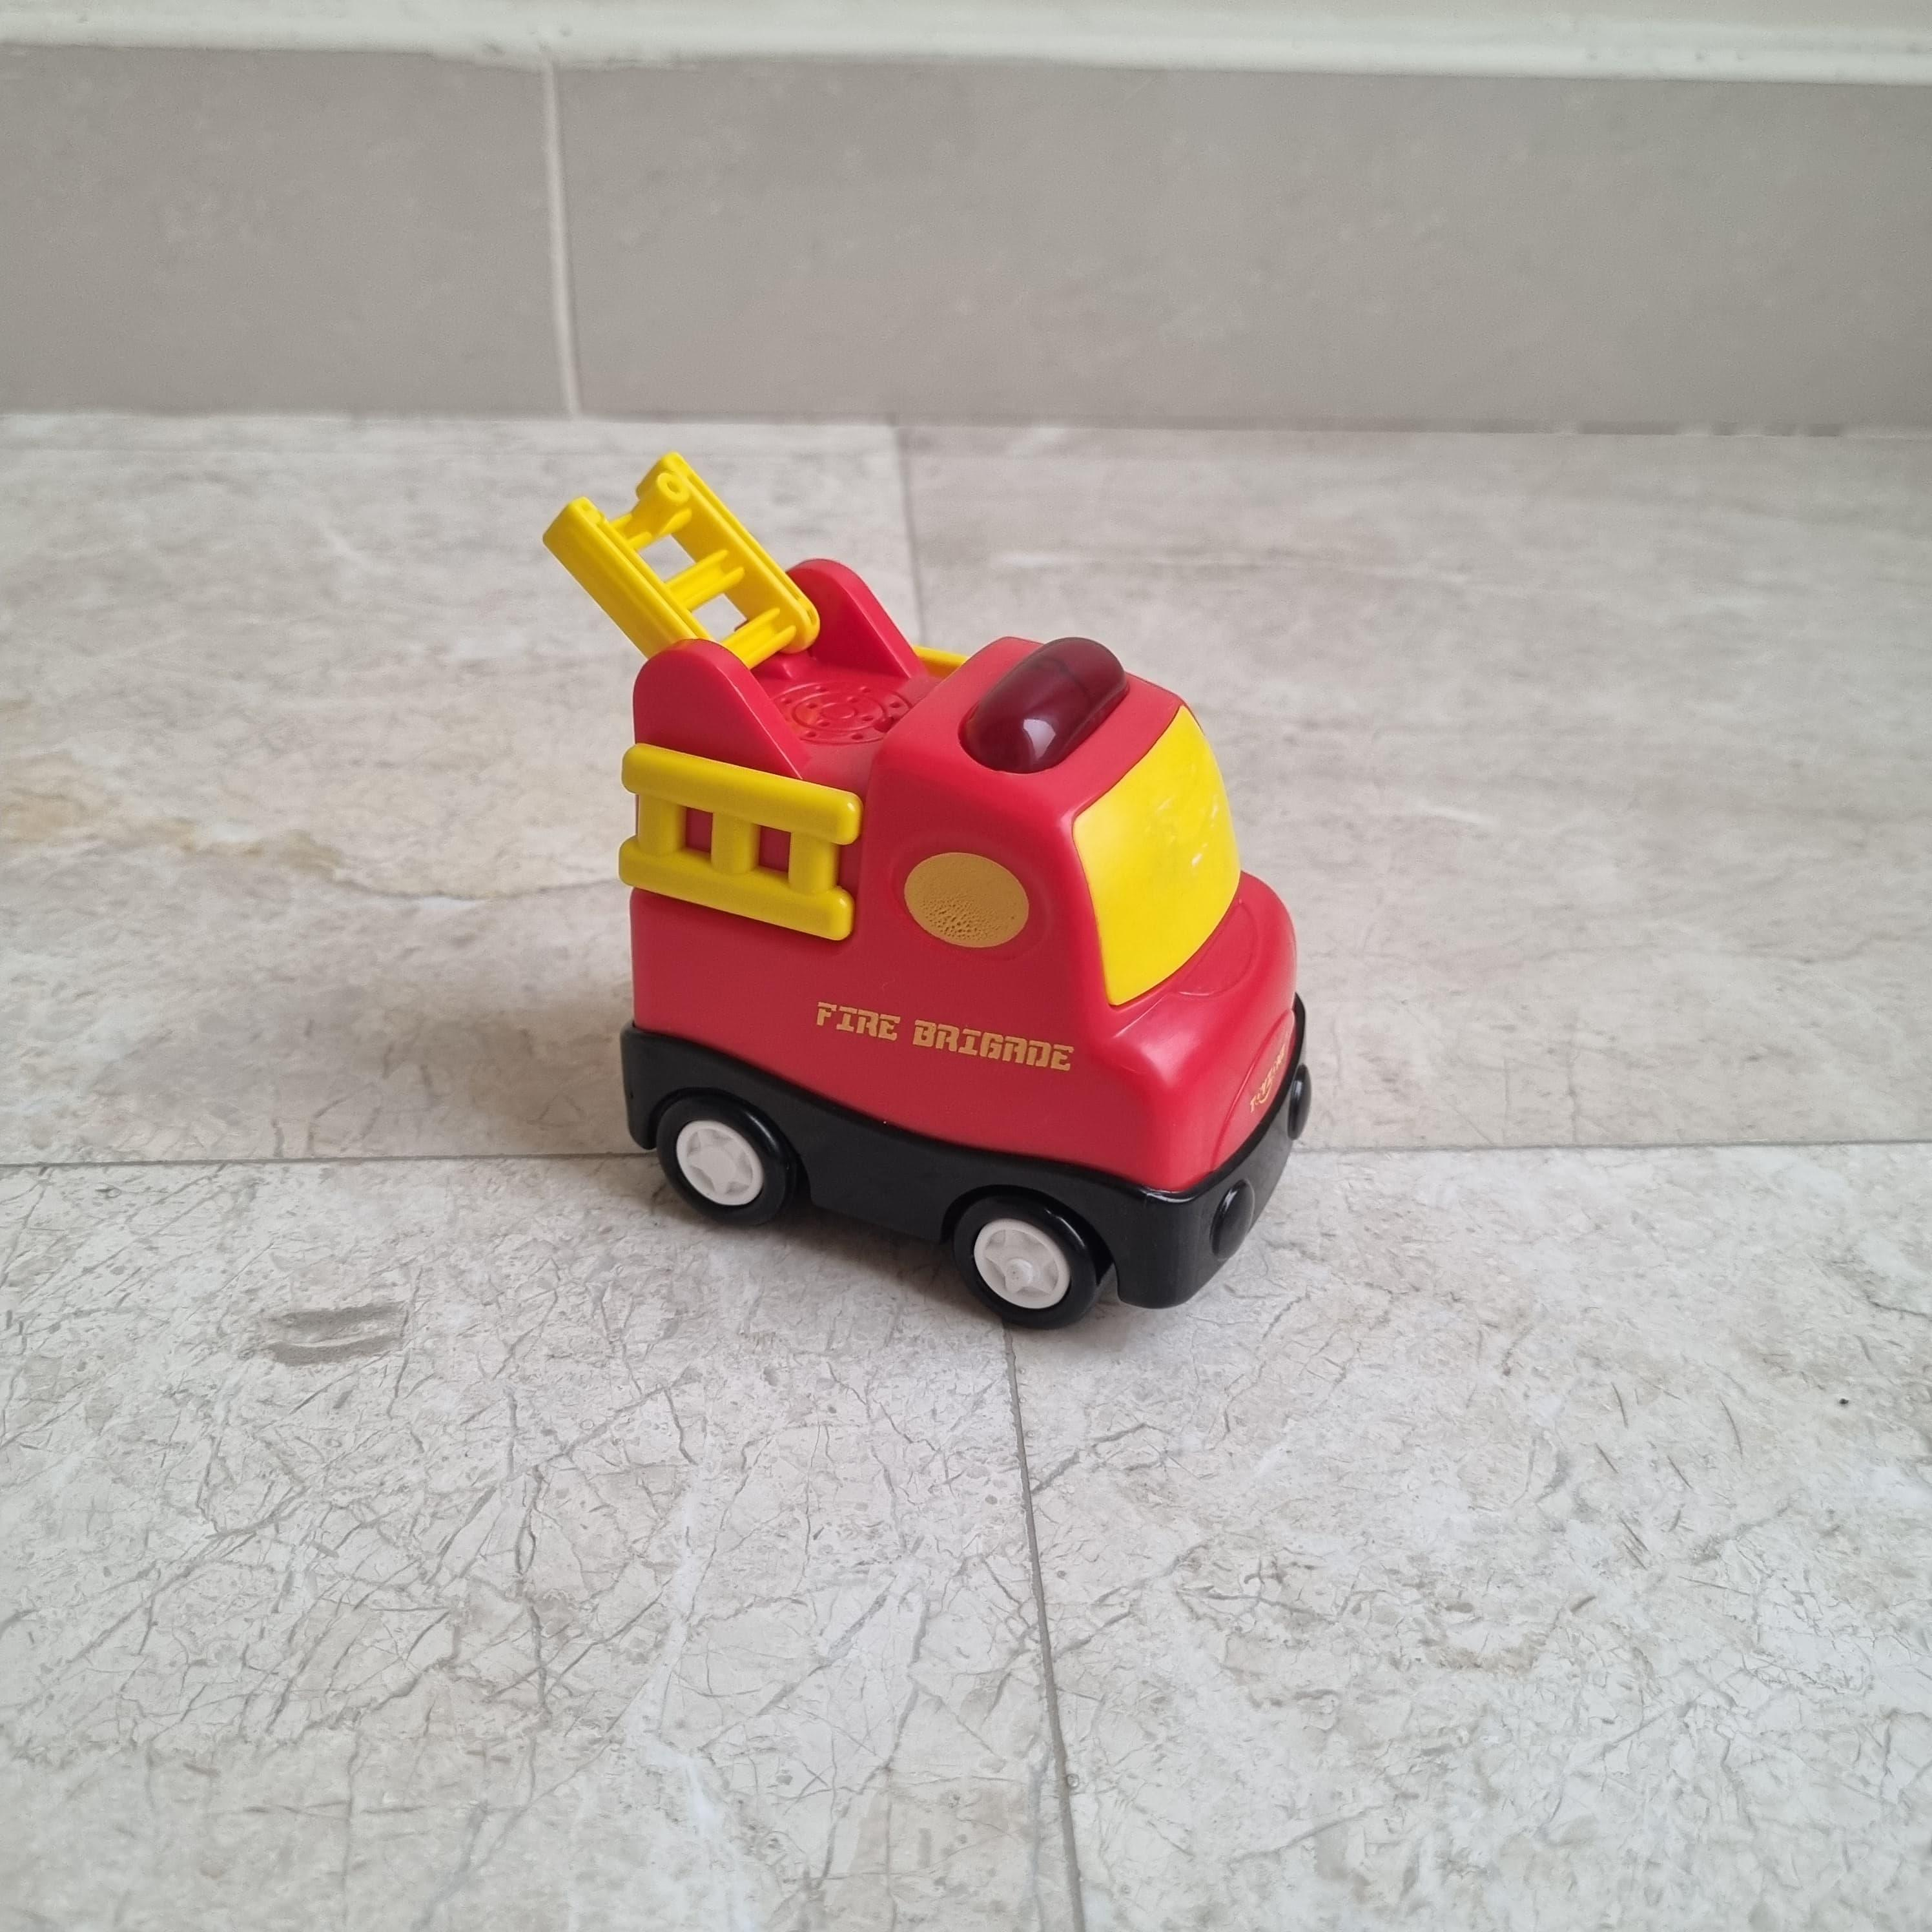firetruck_off: (541, 455, 1313, 1327)
